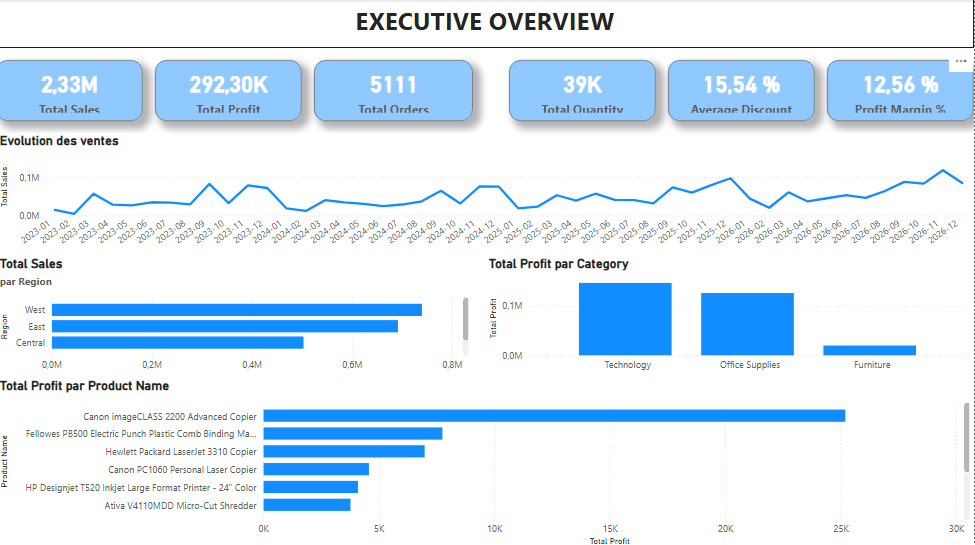

Layout of this report page (visuals, bound fields, positions):
{"tool":"powerbi","page":{"name":"Executive Overview","canvas":[1280,720],"ordinal":0},"visuals":[{"type":"card","fields":{"Values":["Mesures.Total Sales"]},"box":[0,247.7,191.5,87.8],"z":0},{"type":"card","fields":{"Values":["Mesures.Total Orders"]},"box":[416.2,247.7,207.4,87.8],"z":1000},{"type":"card","fields":{"Values":["Mesures.Profit Margin %"]},"box":[1088.6,247.7,191.5,87.8],"z":2000},{"type":"clusteredBarChart","title":"Total Sales by Region","fields":{"Category":["Fact_Orders.Region"],"Y":["Mesures.Total Sales"]},"box":[0,528,624,192],"z":3000},{"type":"lineChart","title":"Monthly Sales Trend","fields":{"Category":["Calendar.Année-Mois"],"Y":["Mesures.Total Sales"]},"box":[0,336,1280,176],"z":4000},{"type":"clusteredColumnChart","title":"Total Profit by Category","fields":{"Category":["Fact_Orders.Category"],"Y":["Mesures.Total Profit"]},"box":[640,528,640,192],"z":5000},{"type":"card","fields":{"Values":["Mesures.Total Profit"]},"box":[207.4,247.7,193,87.8],"z":7000},{"type":"card","fields":{"Values":["Mesures.Average Discount"]},"box":[879.8,247.7,191.5,87.8],"z":8000},{"type":"card","fields":{"Values":["Mesures.Total Quantity"]},"box":[672.5,247.7,191.5,87.8],"z":9000},{"type":"textbox","box":[0,0,1280,80],"z":10000},{"type":"slicer","fields":{"Values":["Calendar.Année"]},"box":[0,80,208,160],"z":11000},{"type":"slicer","fields":{"Values":["Fact_Orders.Region"]},"box":[336,80,176,160],"z":12000},{"type":"slicer","fields":{"Values":["Fact_Orders.Segment"]},"box":[656,80,176,160],"z":13000},{"type":"slicer","fields":{"Values":["Fact_Orders.Category"]},"box":[992,80,208,160],"z":14000}]}

Visuals, with their boxes in screenshot pixels (x1, y1, x2, y2), scaled from the page's 1280x720 canvas onto the 975x545 screenshot:
card - Mesures.Total Sales: (x1=0, y1=187, x2=146, y2=254)
card - Mesures.Total Orders: (x1=317, y1=187, x2=475, y2=254)
card - Mesures.Profit Margin %: (x1=829, y1=187, x2=974, y2=254)
"Total Sales by Region" clusteredBarChart: (x1=0, y1=400, x2=475, y2=544)
"Monthly Sales Trend" lineChart: (x1=0, y1=254, x2=974, y2=388)
"Total Profit by Category" clusteredColumnChart: (x1=488, y1=400, x2=974, y2=544)
card - Mesures.Total Profit: (x1=158, y1=187, x2=305, y2=254)
card - Mesures.Average Discount: (x1=670, y1=187, x2=816, y2=254)
card - Mesures.Total Quantity: (x1=512, y1=187, x2=658, y2=254)
textbox: (x1=0, y1=0, x2=974, y2=61)
slicer - Calendar.Année: (x1=0, y1=61, x2=158, y2=182)
slicer - Fact_Orders.Region: (x1=256, y1=61, x2=390, y2=182)
slicer - Fact_Orders.Segment: (x1=500, y1=61, x2=634, y2=182)
slicer - Fact_Orders.Category: (x1=756, y1=61, x2=914, y2=182)
